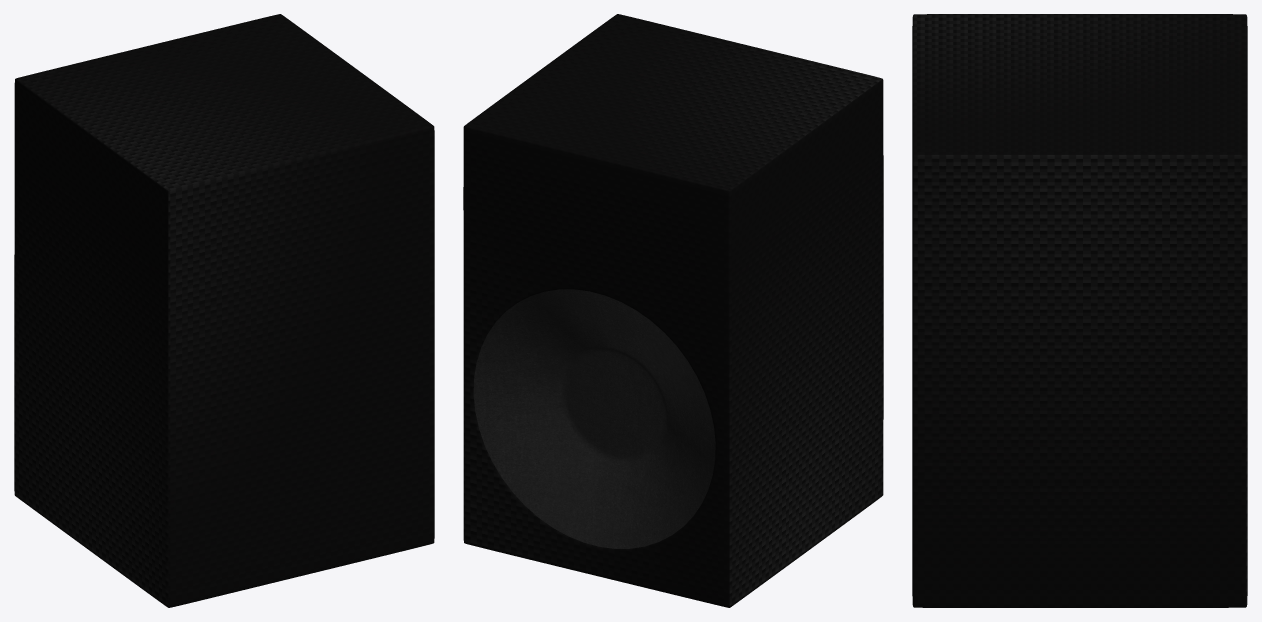
File: speaker.fbx
3 renders of one model, left to right at view 1: azimuth 30°, elevation 25°; view 2: azimuth 150°, elevation 25°; view 3: azimuth 270°, elevation 25°, orthographic. The views are drawn at different scales.
Visible parts, largest first — view 1: Body; view 2: Body, Speaker; view 3: Body.
Part boxes in pixels (bbox=[...]): Body: bbox=[14, 14, 434, 607]; Body: bbox=[463, 14, 883, 607]; Speaker: bbox=[473, 289, 715, 548]; Body: bbox=[912, 14, 1247, 607].
Size of the model in its own units: 200 by 299 by 200.
Materials: 2 (2 with a texture image).
